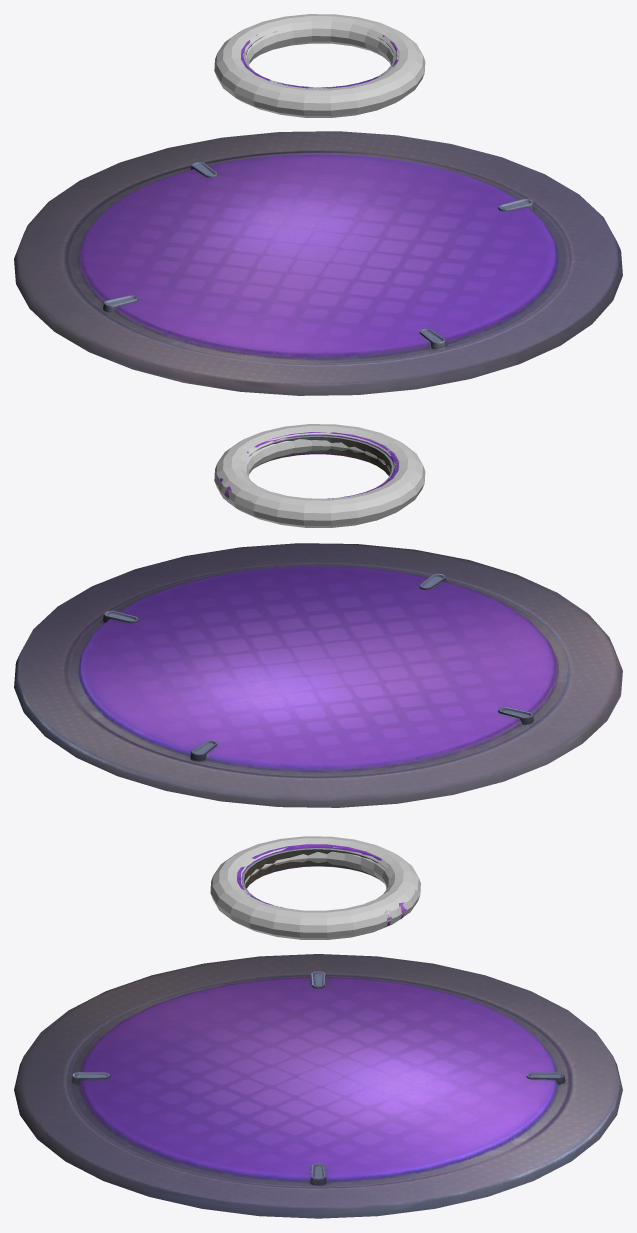
File: pref_TPC_v2_NeutralScoreArea03_purple_interfere_lv1.fbx
3 renders of one model, top to bottom at view 1: azimuth 30°, elevation 25°; view 2: azimuth 150°, elevation 25°; view 3: azimuth 270°, elevation 25°, orthographic.
Visible parts, largest first — view 1: sm_prop_platform06a_lv1, sm_fx_0037_ring_04_xz (3), sm_prop_platform06b_lv1; view 2: sm_prop_platform06a_lv1, sm_fx_0037_ring_04_xz (3), sm_prop_platform06b_lv1; view 3: sm_prop_platform06a_lv1, sm_fx_0037_ring_04_xz (3), sm_prop_platform06b_lv1.
Boxes of the visible parts, <box> form: sm_prop_platform06a_lv1: <box>14,131,622,395</box>; sm_fx_0037_ring_04_xz (3): <box>214,14,425,117</box>; sm_prop_platform06b_lv1: <box>241,31,398,88</box>; sm_prop_platform06a_lv1: <box>14,543,622,807</box>; sm_fx_0037_ring_04_xz (3): <box>214,424,425,527</box>; sm_prop_platform06b_lv1: <box>219,432,398,501</box>; sm_prop_platform06a_lv1: <box>14,954,622,1218</box>; sm_fx_0037_ring_04_xz (3): <box>210,836,420,939</box>; sm_prop_platform06b_lv1: <box>237,844,415,926</box>.
Bounding box in the file's own units: 7.46 × 2.9 × 7.46.
